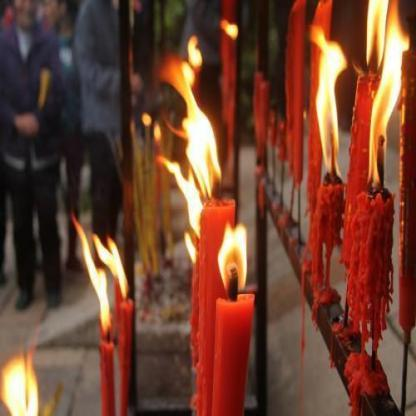Fire: (172, 62, 233, 198), (308, 22, 354, 182), (62, 214, 118, 334), (360, 0, 393, 192), (155, 154, 205, 228), (378, 1, 414, 101), (89, 234, 140, 297), (0, 346, 45, 416), (211, 224, 255, 285), (175, 231, 203, 260), (186, 40, 204, 64)
